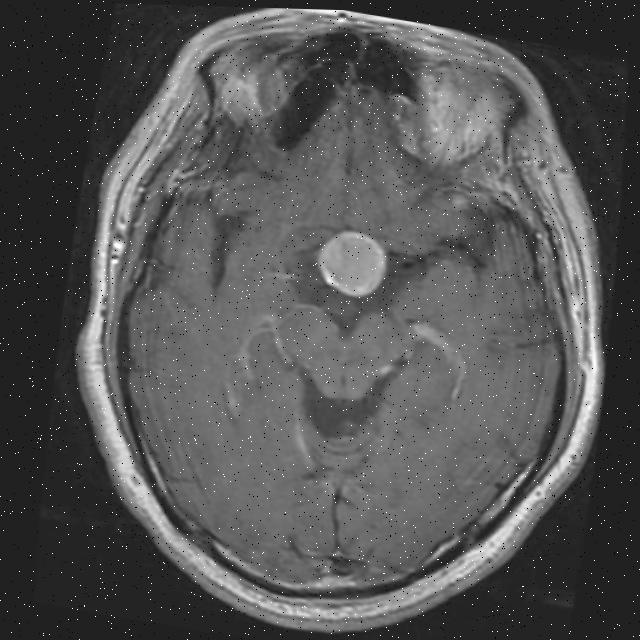Pituitary: (313, 224, 391, 302)
